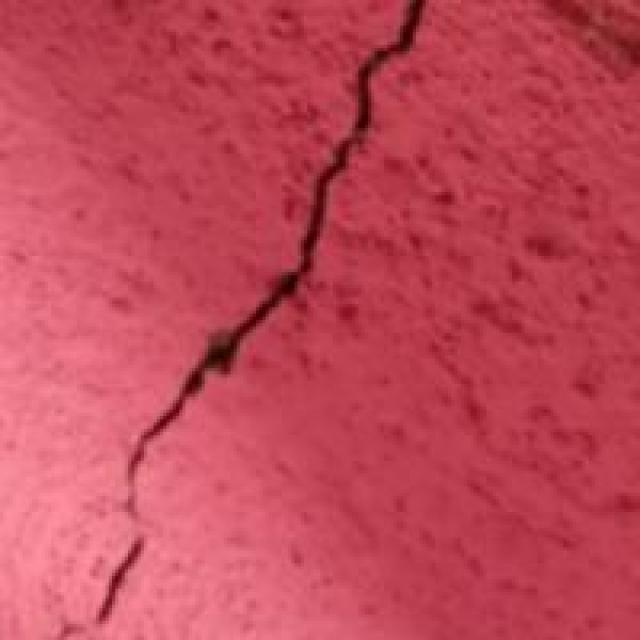crack: (54, 0, 454, 637)
